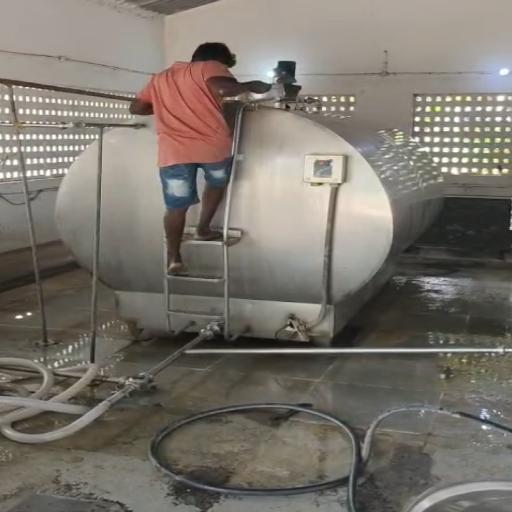silo: (53, 108, 455, 342)
vessel: (237, 82, 288, 105)
